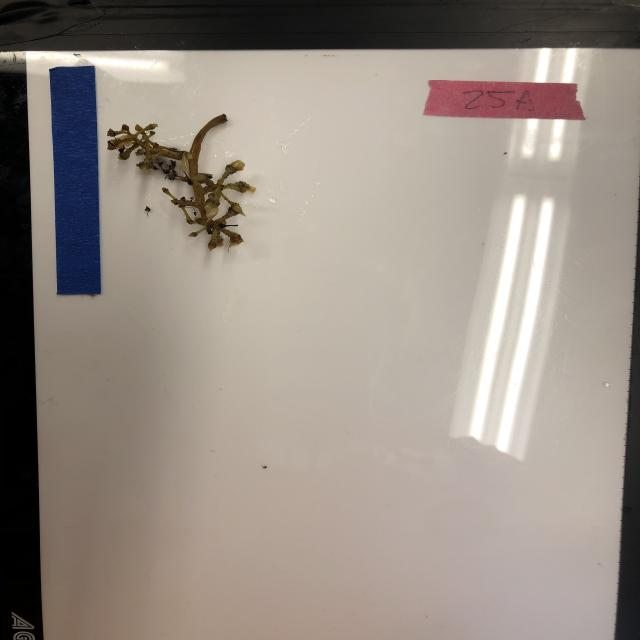index: (420, 75, 586, 123)
measure_label: (48, 62, 104, 297)
rachis_cluster: (108, 111, 255, 251)
